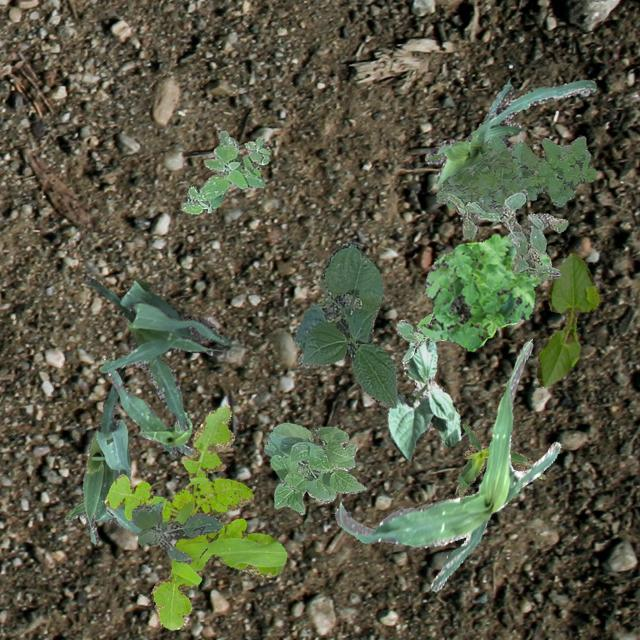crop: (334, 340, 558, 590), (424, 78, 596, 208), (84, 276, 228, 430), (292, 240, 396, 408), (64, 366, 140, 544), (262, 422, 366, 514), (386, 340, 459, 460), (536, 252, 598, 386), (107, 368, 193, 456), (456, 422, 544, 497)
weed: (104, 404, 286, 628), (416, 232, 550, 350), (436, 134, 594, 212), (442, 188, 566, 280), (180, 130, 270, 213), (132, 502, 222, 562), (394, 312, 444, 362)
